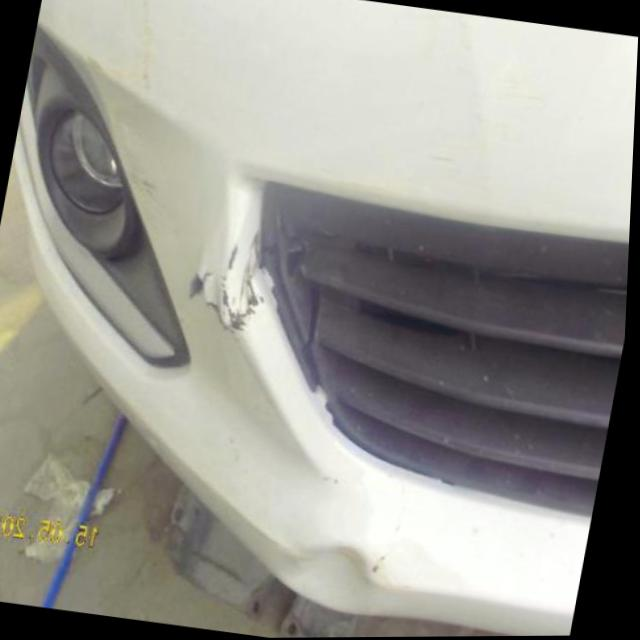Car-Damage: (422, 13, 524, 182), (274, 532, 387, 618), (371, 530, 476, 607), (215, 230, 282, 350), (80, 0, 169, 90), (185, 264, 231, 318), (125, 172, 164, 211)
